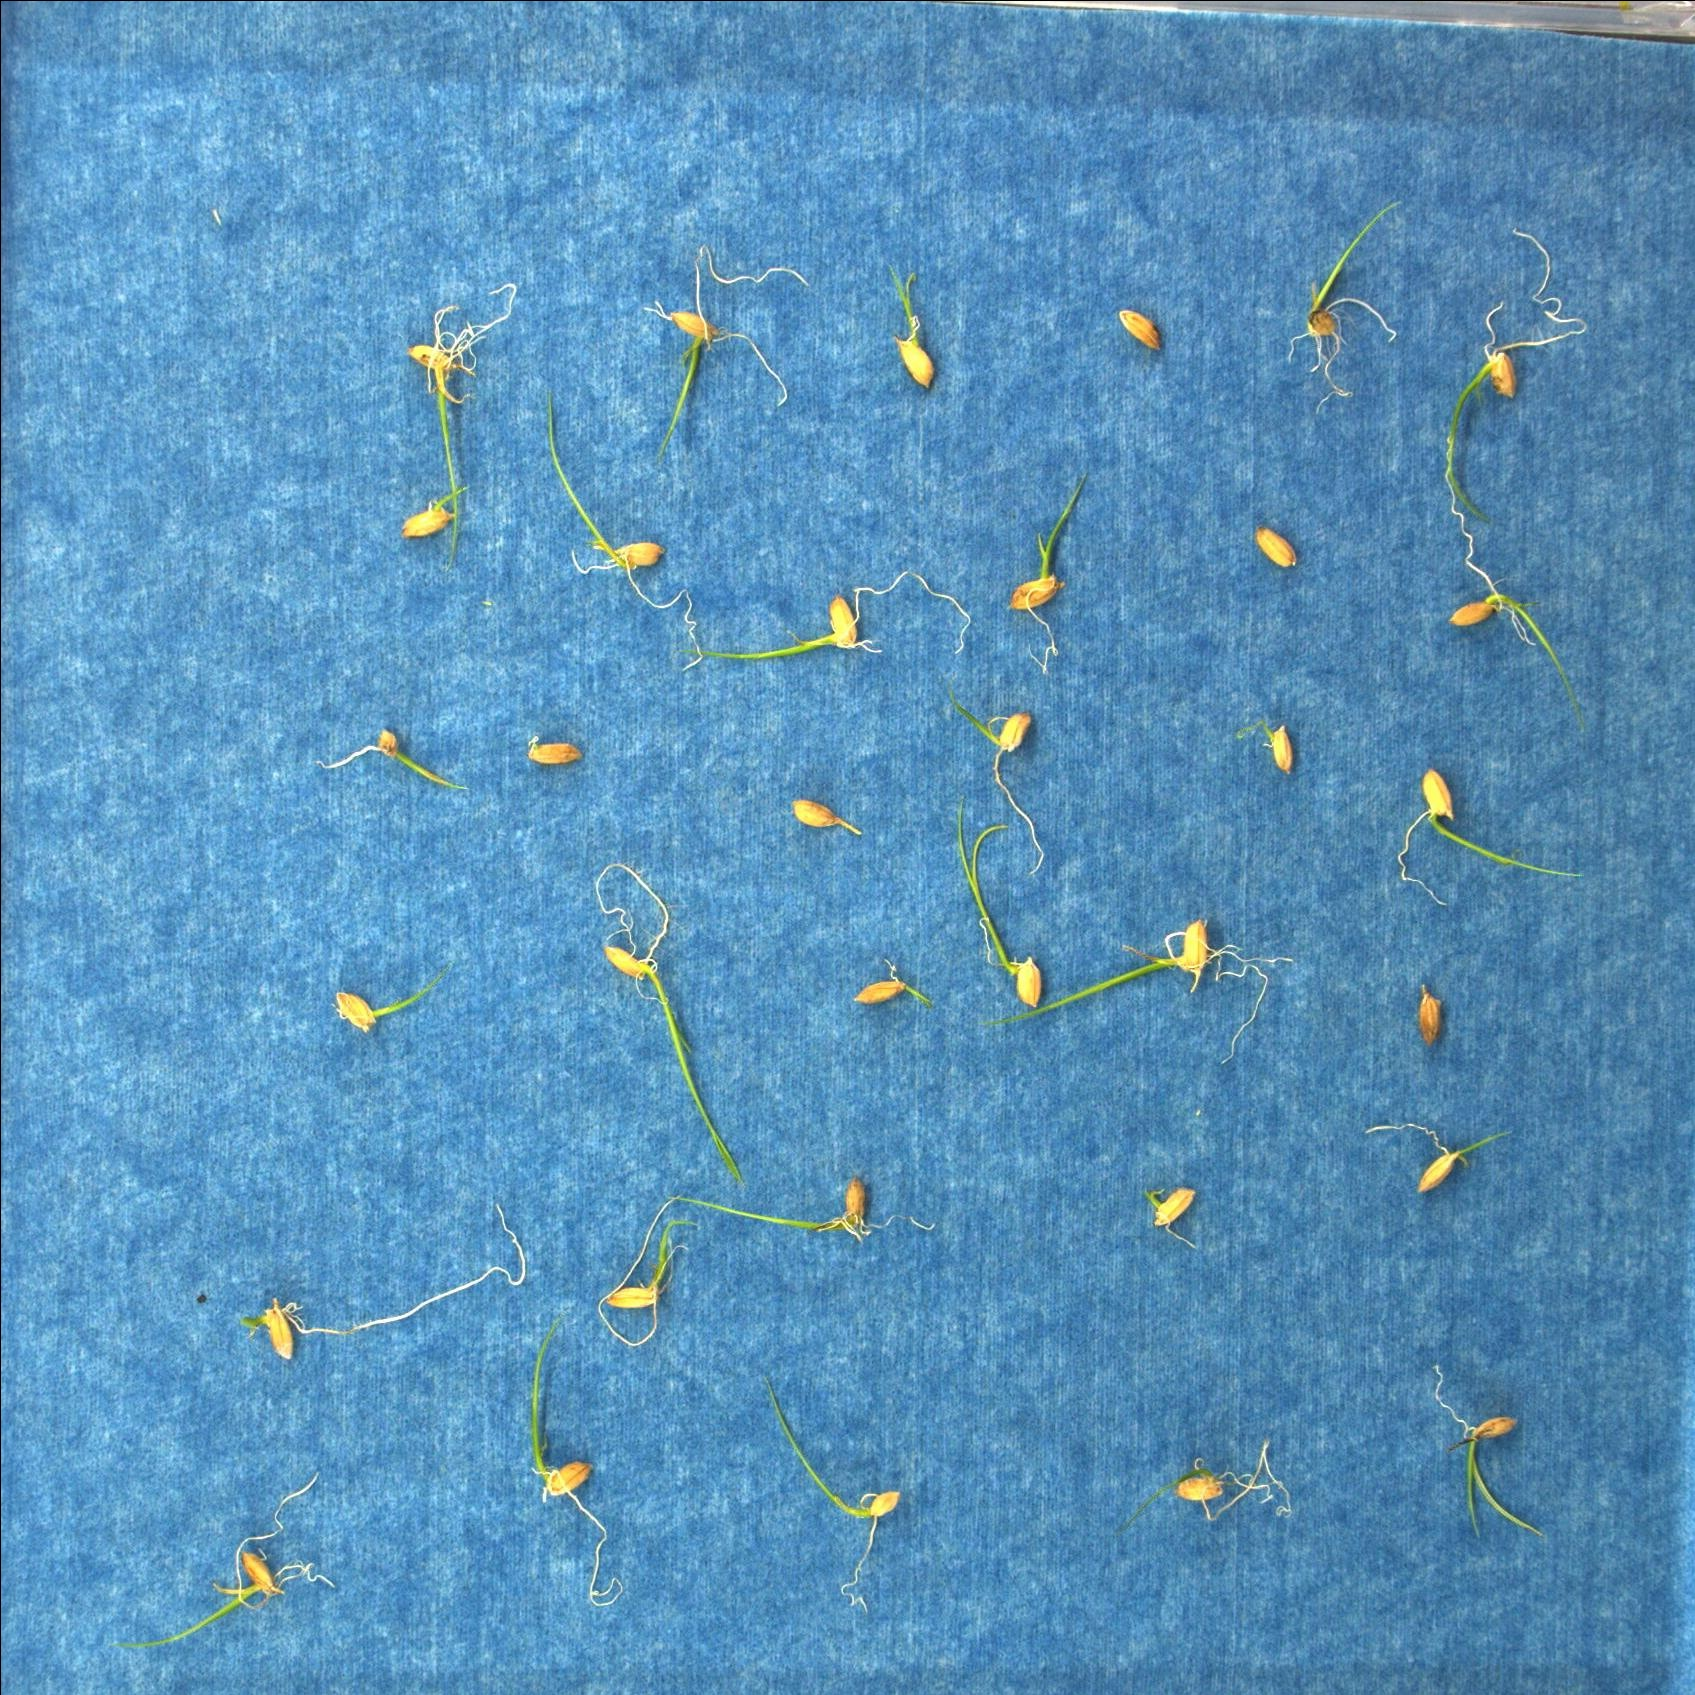not sprout: (793, 799, 861, 838), (1118, 307, 1164, 352), (1254, 525, 1299, 571), (1417, 986, 1445, 1049), (528, 734, 584, 765)
sprout: (593, 860, 747, 1184), (983, 919, 1298, 1066), (244, 1201, 528, 1360), (546, 386, 702, 672), (1445, 435, 1586, 736), (1448, 227, 1591, 523), (123, 1471, 338, 1648), (641, 245, 809, 459), (767, 1375, 903, 1614), (407, 279, 517, 573), (531, 1322, 624, 1608), (1397, 765, 1583, 906), (686, 570, 973, 660), (1287, 199, 1405, 414), (1433, 1364, 1546, 1541), (944, 683, 1045, 875), (1116, 1434, 1295, 1538), (667, 1177, 938, 1245), (958, 795, 1042, 1007), (598, 1195, 702, 1349), (1012, 470, 1088, 674), (1366, 1121, 1516, 1194), (314, 723, 469, 792), (334, 965, 449, 1035), (888, 265, 934, 391), (399, 483, 473, 540), (855, 958, 934, 1009), (1146, 1183, 1198, 1250), (1239, 719, 1295, 773)
